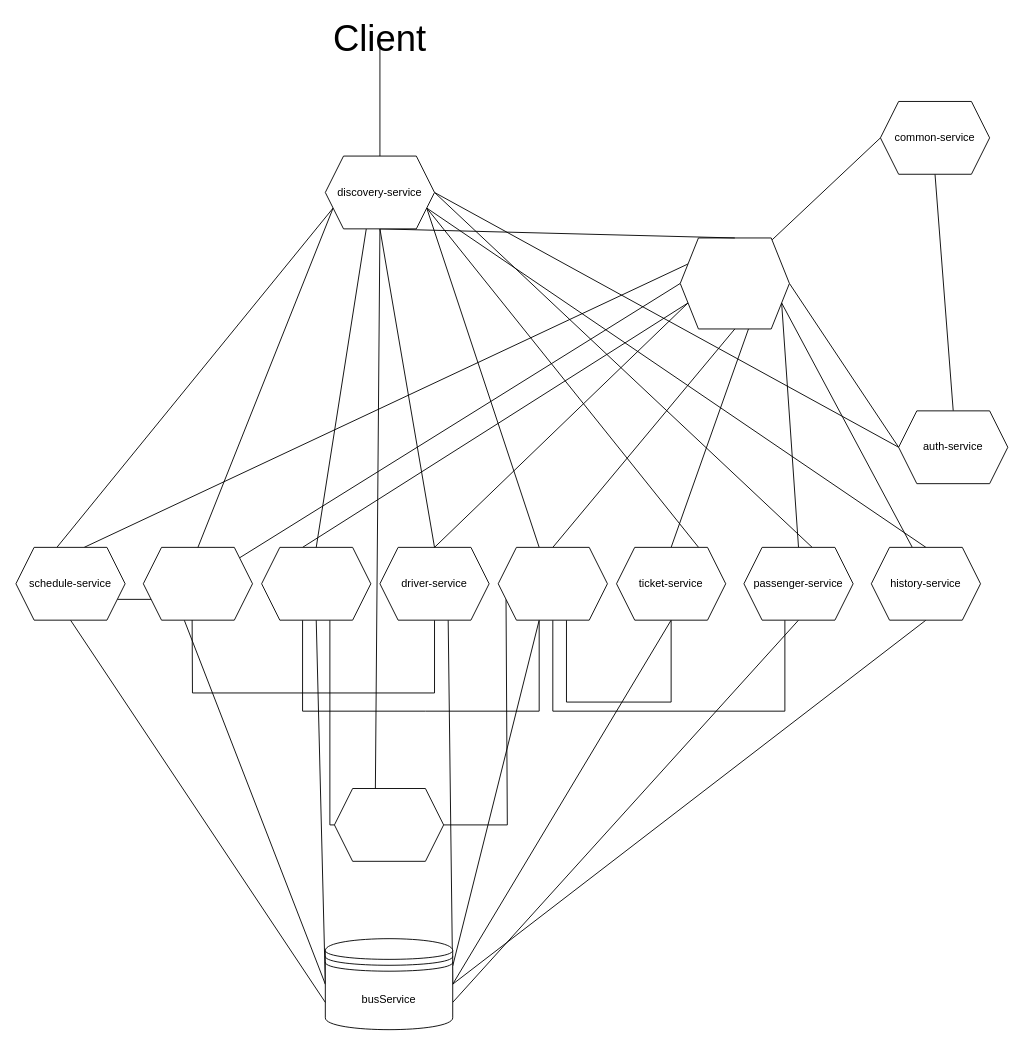
Some shapes in this 1024 by 1046 pixel diagram are drawn without their labels. Here are the shapes that lost their labels. From the top down, the centre of each, then its label:
At [734,283]: "zuul-server-application".
At [197,583]: "bus-service".
At [316,583]: "location-service".
At [552,583]: "trip-service".
At [389,824]: "notify-service-master".
